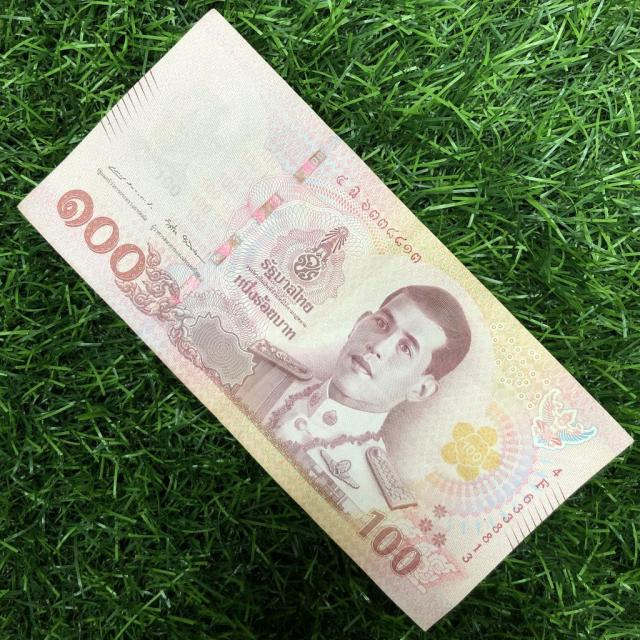THAI100: (16, 10, 633, 632)
